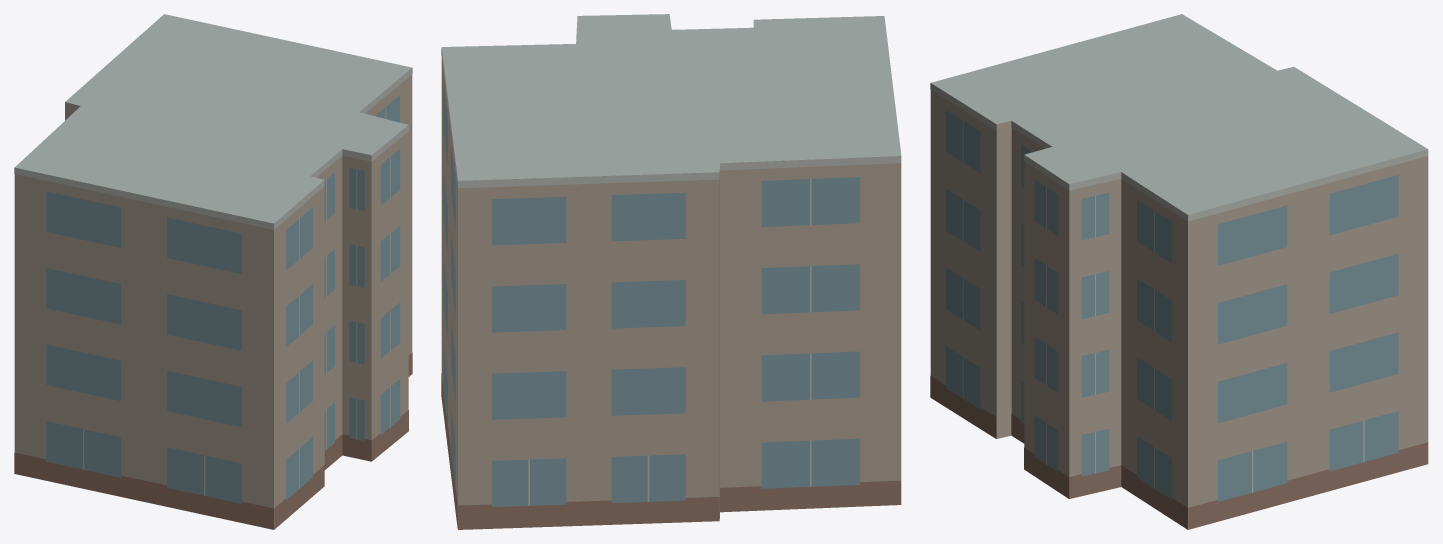
File: survey-upis-32508780.glb
The picture shows the model from 3 angles, left to right: view 1: azimuth 30°, elevation 25°; view 2: azimuth 150°, elevation 25°; view 3: azimuth 270°, elevation 25°; orthographic projection. The views are drawn at different scales.
Parts seen in each view (by area): view 1: survey-upis-32508780.tmp; view 2: survey-upis-32508780.tmp; view 3: survey-upis-32508780.tmp.
Boxes of the visible parts, x1,y1,x2,y2 form: survey-upis-32508780.tmp: (14,14,412,529); survey-upis-32508780.tmp: (441,14,901,529); survey-upis-32508780.tmp: (930,14,1428,529).
Size of the model in its own units: 16.03 by 11.7 by 16.78.
